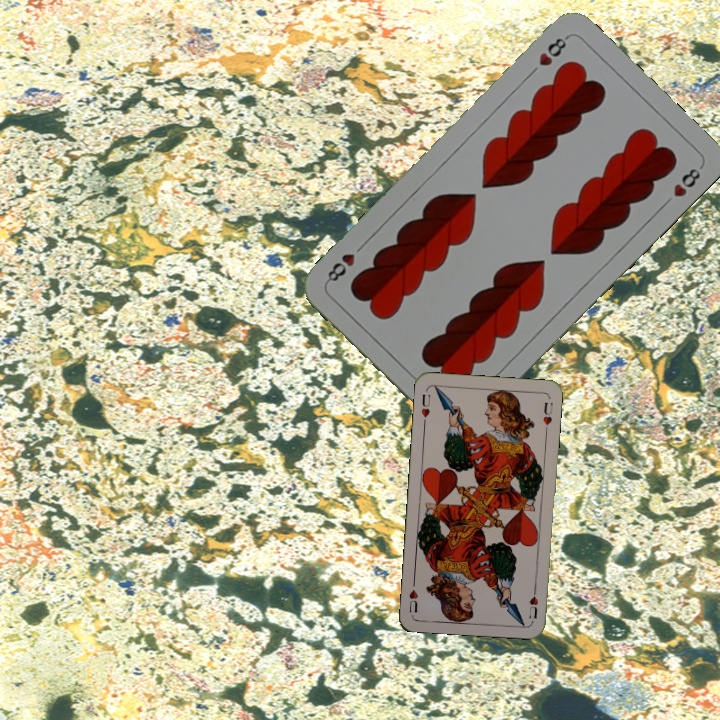H8: (534, 31, 571, 69)
HU: (525, 583, 541, 621), (417, 390, 433, 427)
